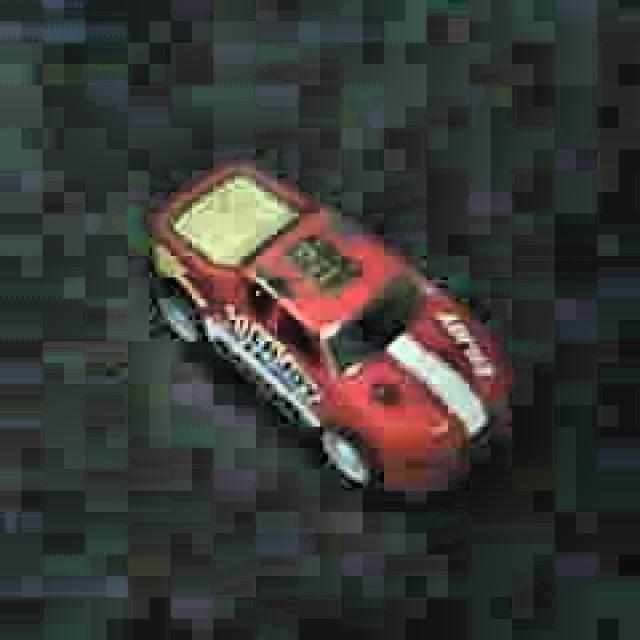car: (147, 156, 508, 497)
